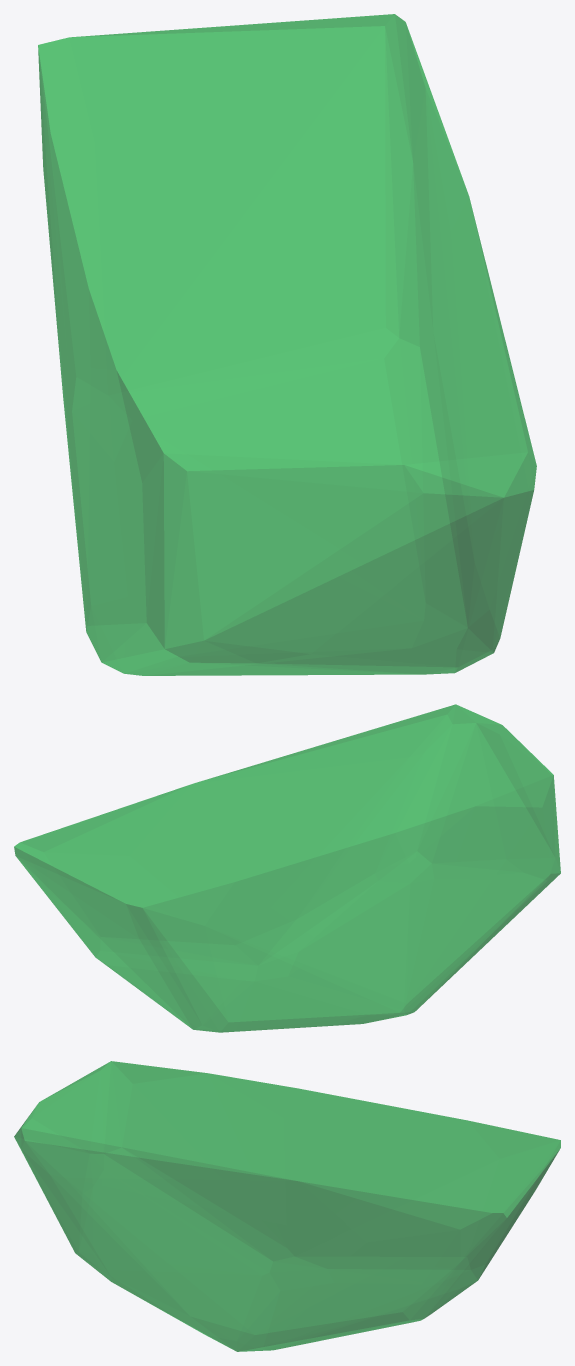
The picture shows the model from 3 angles, top to bottom: view 1: azimuth 30°, elevation 25°; view 2: azimuth 150°, elevation 25°; view 3: azimuth 270°, elevation 25°; orthographic projection. The views are drawn at different scales.
Parts seen in each view (by area): view 1: Shape_IndexedFaceSet.001_Shape_IndexedFaceSet.7165; view 2: Shape_IndexedFaceSet.001_Shape_IndexedFaceSet.7165; view 3: Shape_IndexedFaceSet.001_Shape_IndexedFaceSet.7165.
Boxes of the visible parts, box(x1,y1,x2,y2) form: Shape_IndexedFaceSet.001_Shape_IndexedFaceSet.7165: box(38, 14, 536, 675); Shape_IndexedFaceSet.001_Shape_IndexedFaceSet.7165: box(14, 704, 560, 1032); Shape_IndexedFaceSet.001_Shape_IndexedFaceSet.7165: box(14, 1061, 560, 1351).
Bounding box in the file's own units: 0.04 × 0.023 × 0.0602.
